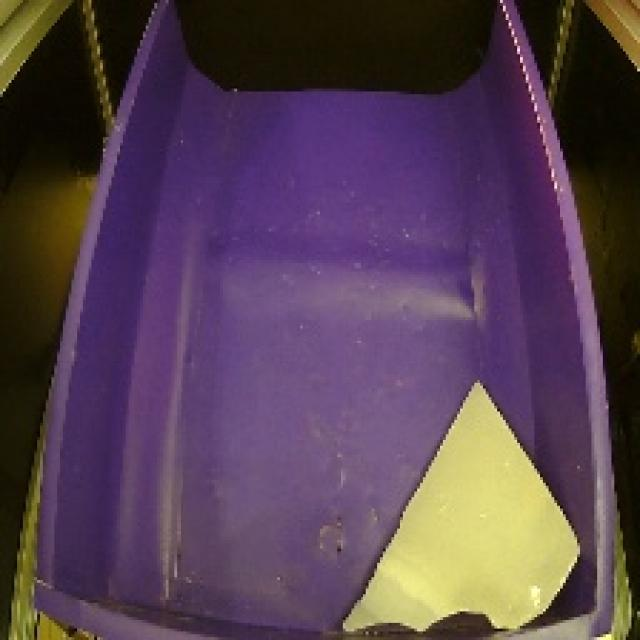china: (327, 369, 589, 640)
